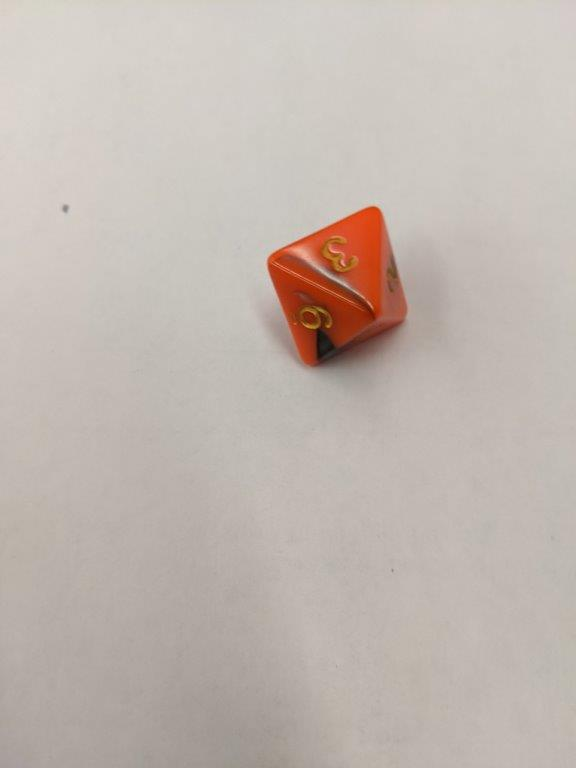d8-3: (267, 207, 410, 369)
